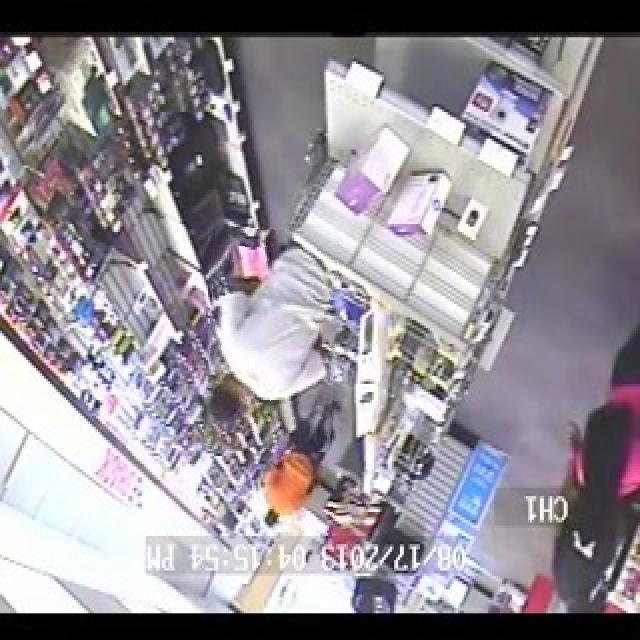normal: (208, 228, 340, 451), (261, 390, 350, 534)
